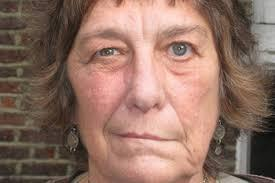strokeEyeSevere: (80, 27, 211, 69)
strokeMouthMid: (107, 125, 188, 155)
